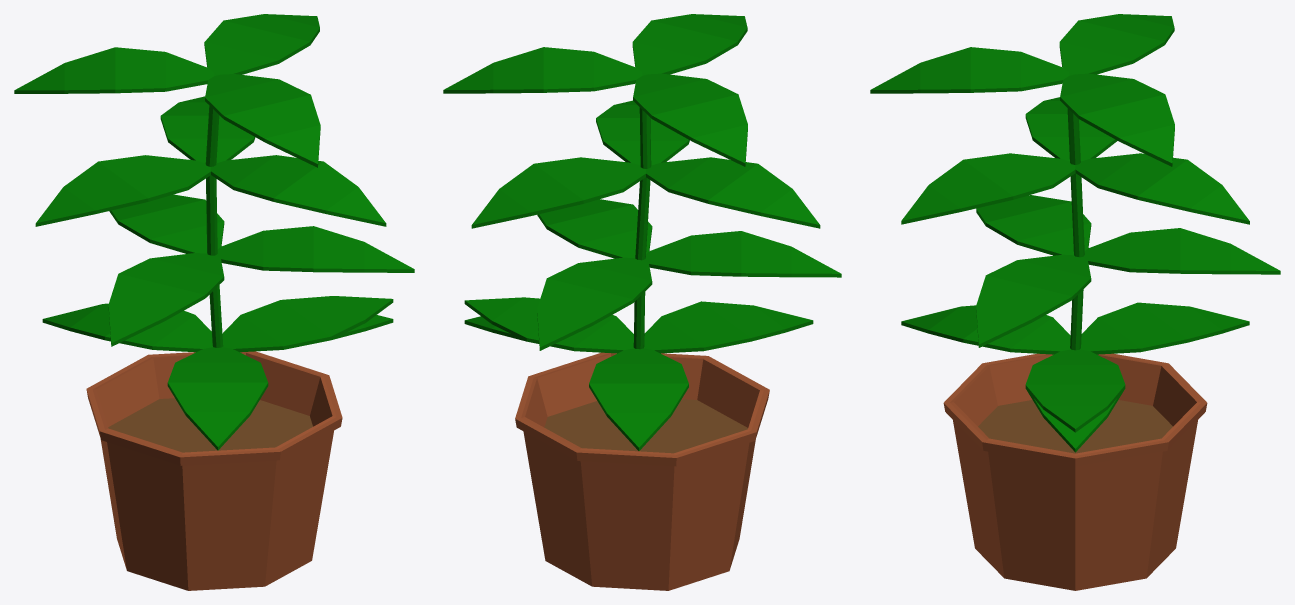
The model's file is Maseta01_Con_Planta.fbx.
3 renders of one model, left to right at view 1: azimuth 30°, elevation 25°; view 2: azimuth 150°, elevation 25°; view 3: azimuth 270°, elevation 25°, orthographic.
Parts seen in each view (by area): view 1: Maseta01_Con_Planta; view 2: Maseta01_Con_Planta; view 3: Maseta01_Con_Planta.
Boxes of the visible parts, <box> form: Maseta01_Con_Planta: <box>14,14,414,590</box>; Maseta01_Con_Planta: <box>443,14,841,590</box>; Maseta01_Con_Planta: <box>870,14,1280,590</box>.
Bounding box in the file's own units: 102 × 132 × 102.
